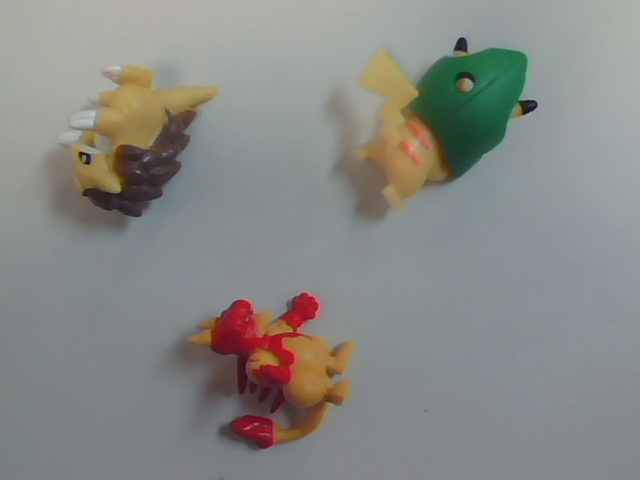magmar: (163, 271, 393, 472)
pikachu: (341, 15, 545, 222)
sandslash: (50, 45, 232, 240)
